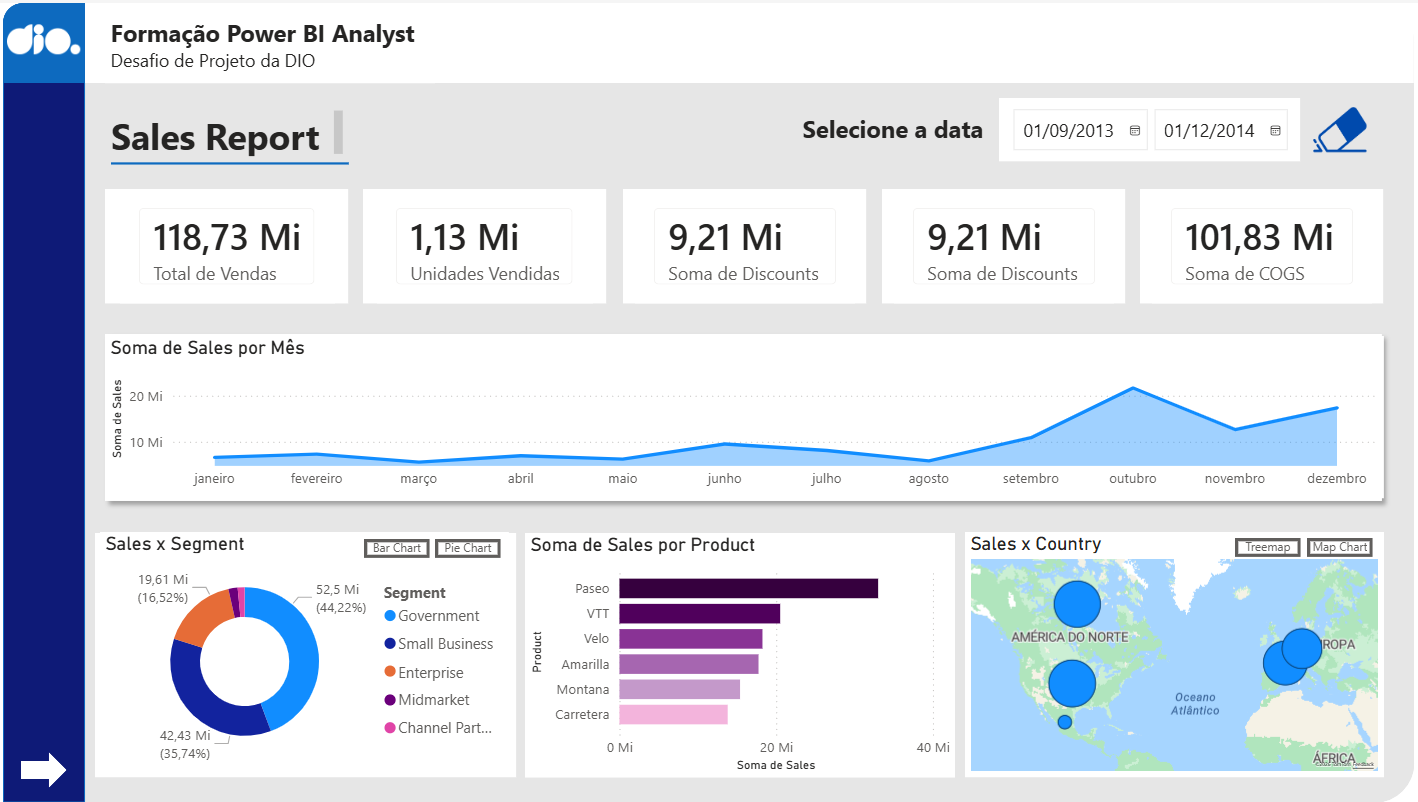

What the dashboard file says about the page in this screenshot:
{"tool":"powerbi","page":{"name":"Página 1","canvas":[1280,720],"ordinal":0},"visuals":[{"type":"shape","box":[18.6,0,1261.4,720],"z":0},{"type":"slicer","fields":{"Values":["financials.Date"]},"box":[906.5,85.6,271.4,57.4],"z":0,"group":"g1"},{"type":"shape","box":[102.1,167.3,218.8,103.1],"z":0,"group":"g2"},{"type":"donutChart","title":"Sales x Segment","fields":{"Y":["Sum(financials.Sales)"],"Category":["financials.Segment"]},"box":[97.3,476.4,368.4,214.2],"z":0,"group":"g4"},{"type":"treemap","title":"Sales x Country","fields":{"Group":["financials.Country"],"Values":["Sum(financials.Sales)"]},"box":[875.3,476.4,377.2,220],"z":0,"group":"g3"},{"type":"shape","box":[9.7,0,73.9,719.8],"z":1000},{"type":"shape","box":[107,23,214,242],"z":1000,"group":"g5"},{"type":"textbox","box":[724.6,93.4,174.1,42.8],"z":1000,"group":"g1"},{"type":"shape","box":[1033.9,167.3,218.8,103.1],"z":1000,"group":"g2"},{"type":"azureMap","title":"Sales x Country","fields":{"Size":["Sum(financials.Sales)"],"Category":["financials.Country"]},"box":[875.4,476.6,377.4,219.8],"z":1000,"group":"g3"},{"type":"actionButton","title":"Botão - pie","box":[398.6,482.8,59.3,17.1],"z":1250,"group":"g4"},{"type":"textbox","box":[102,91,219,51],"z":1500,"group":"g5"},{"type":"actionButton","title":"Botão - tremap","box":[1118.6,482.1,59.3,17.1],"z":1500,"group":"g3"},{"type":"actionButton","title":"Botão - bar","box":[334.3,482.8,59.3,17.1],"z":1500,"group":"g4"},{"type":"shape","box":[9.7,0,73.9,72],"z":2000},{"type":"actionButton","box":[1186.6,90.5,56.4,47.7],"z":2000,"group":"g1"},{"type":"shape","box":[801.4,167.3,218.8,103.1],"z":2000,"group":"g2"},{"type":"actionButton","title":"Botão - map","box":[1182.9,482.1,59.3,17.1],"z":2000,"group":"g3"},{"type":"shape","box":[84,0,1196,72],"z":3000},{"type":"image","box":[1177.9,90.5,70,47.7],"z":3000,"group":"g1"},{"type":"shape","box":[568,167.3,218.8,103.1],"z":3000,"group":"g2"},{"type":"textbox","box":[102.1,6.8,296.7,65.2],"z":4000},{"type":"shape","box":[334.6,167.3,218.8,103.1],"z":4000,"group":"g2"},{"type":"cardVisual","fields":{"Data":["Sum(financials.COGS)"]},"box":[1044.6,167.3,198.4,103.1],"z":5000,"group":"g2"},{"type":"shape","box":[92.4,288.9,1167.2,168.3],"z":5000},{"type":"cardVisual","fields":{"Data":["Sum(financials.Discounts)"]},"box":[812.1,167.3,198.4,103.1],"z":6000,"group":"g2"},{"type":"shape","box":[875.4,476.6,377.4,219.8],"z":6000},{"type":"cardVisual","fields":{"Data":["Sum(financials.Discounts)"]},"box":[578.7,167.3,198.4,103.1],"z":7000,"group":"g2"},{"type":"shape","box":[479.5,476.6,387.1,219.8],"z":7000},{"type":"cardVisual","fields":{"Data":["Sum(financials.Units Sold)"]},"box":[347.2,167.3,193.6,103.1],"z":8000,"group":"g2"},{"type":"shape","box":[92.4,476.6,379.3,219.8],"z":8000},{"type":"cardVisual","fields":{"Data":["Sum(financials.Sales)"]},"box":[115.7,167.3,192.6,103.1],"z":9000,"group":"g2"},{"type":"areaChart","fields":{"Category":["financials.Date.Variation.Hierarquia de datas.Mês"],"Y":["Sum(financials.Sales)"]},"box":[102.1,299.6,1150.6,145.9],"z":9000},{"type":"image","box":[13.6,6.8,66.1,50.6],"z":10000},{"type":"group","id":"g1","title":"Filtro por data","box":[724.6,85.6,523.3,57.4],"z":11000},{"type":"clusteredBarChart","fields":{"Category":["financials.Product"],"Y":["Sum(financials.Sales)"]},"box":[479.5,476.6,387.1,219.8],"z":12000},{"type":"group","id":"g2","title":"Cartões","box":[102.1,167.3,1150.6,103.1],"z":13000},{"type":"group","id":"g3","title":"Sales x Country","box":[875.3,476.4,377.5,220],"z":14000},{"type":"group","id":"g4","title":"Sales x Segment","box":[92.4,476.4,379.3,220],"z":15000},{"type":"group","id":"g5","title":"Título","box":[102,23,219,242],"z":16000},{"type":"shape","box":[26.5,673.9,41.3,32.4],"z":17000}]}

Visuals, with their boxes on the page's 1280x720 design canvas (x1, y1, x2, y2). These are canvas units, not pixel positions in the 1418x802 screenshot, which may show the page scaled, cropped or inside an application window:
shape: x1=19, y1=0, x2=1280, y2=720
slicer - financials.Date: x1=906, y1=86, x2=1178, y2=143
shape: x1=102, y1=167, x2=321, y2=270
"Sales x Segment" donutChart: x1=97, y1=476, x2=466, y2=691
"Sales x Country" treemap: x1=875, y1=476, x2=1252, y2=696
shape: x1=10, y1=0, x2=84, y2=720
shape: x1=107, y1=23, x2=321, y2=265
textbox: x1=725, y1=93, x2=899, y2=136
shape: x1=1034, y1=167, x2=1253, y2=270
"Sales x Country" azureMap: x1=875, y1=477, x2=1253, y2=696
"Botão - pie" actionButton: x1=399, y1=483, x2=458, y2=500
textbox: x1=102, y1=91, x2=321, y2=142
"Botão - tremap" actionButton: x1=1119, y1=482, x2=1178, y2=499
"Botão - bar" actionButton: x1=334, y1=483, x2=394, y2=500
shape: x1=10, y1=0, x2=84, y2=72
actionButton: x1=1187, y1=90, x2=1243, y2=138
shape: x1=801, y1=167, x2=1020, y2=270
"Botão - map" actionButton: x1=1183, y1=482, x2=1242, y2=499
shape: x1=84, y1=0, x2=1280, y2=72
image: x1=1178, y1=90, x2=1248, y2=138
shape: x1=568, y1=167, x2=787, y2=270
textbox: x1=102, y1=7, x2=399, y2=72
shape: x1=335, y1=167, x2=553, y2=270
cardVisual - Sum(financials.COGS): x1=1045, y1=167, x2=1243, y2=270
shape: x1=92, y1=289, x2=1260, y2=457
cardVisual - Sum(financials.Discounts): x1=812, y1=167, x2=1010, y2=270
shape: x1=875, y1=477, x2=1253, y2=696
cardVisual - Sum(financials.Discounts): x1=579, y1=167, x2=777, y2=270
shape: x1=480, y1=477, x2=867, y2=696
cardVisual - Sum(financials.Units Sold): x1=347, y1=167, x2=541, y2=270
shape: x1=92, y1=477, x2=472, y2=696
cardVisual - Sum(financials.Sales): x1=116, y1=167, x2=308, y2=270
areaChart - financials.Date.Variation.Hierarquia de datas.Mês x Sum(financials.Sales): x1=102, y1=300, x2=1253, y2=446
image: x1=14, y1=7, x2=80, y2=57
"Filtro por data" group: x1=725, y1=86, x2=1248, y2=143
clusteredBarChart - financials.Product x Sum(financials.Sales): x1=480, y1=477, x2=867, y2=696
"Cartões" group: x1=102, y1=167, x2=1253, y2=270
"Sales x Country" group: x1=875, y1=476, x2=1253, y2=696
"Sales x Segment" group: x1=92, y1=476, x2=472, y2=696
"Título" group: x1=102, y1=23, x2=321, y2=265
shape: x1=26, y1=674, x2=68, y2=706
